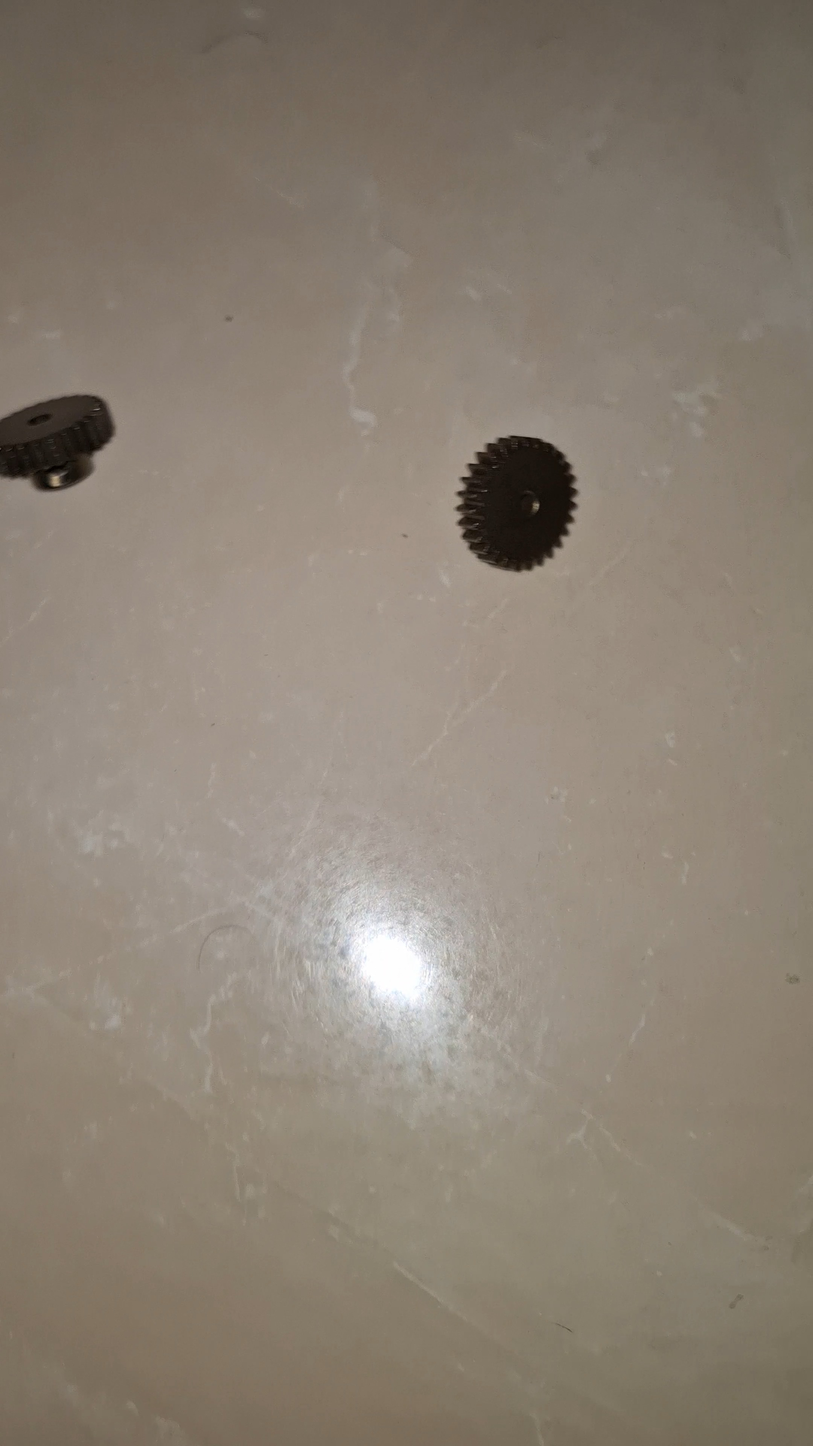spur gear: (458, 436, 575, 570), (0, 395, 113, 488)
